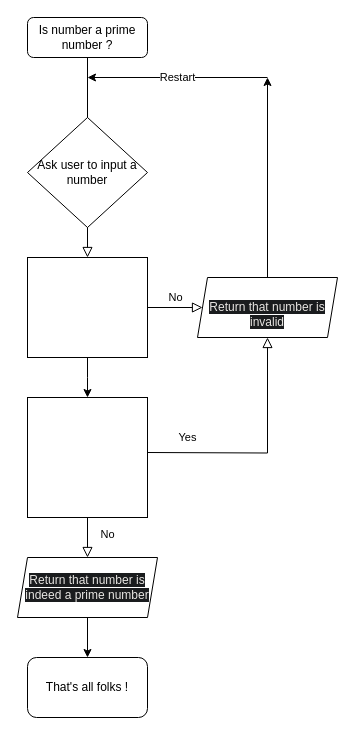
Some shapes in this 355 by 735 pixel diagram are drawn without their labels. Here are the shapes that lost their labels. From the top down, the box of each, then its label:
(26, 256, 148, 358): Is number greater than 1?
(26, 396, 148, 518): Can number be divided by other than 1 or itself
